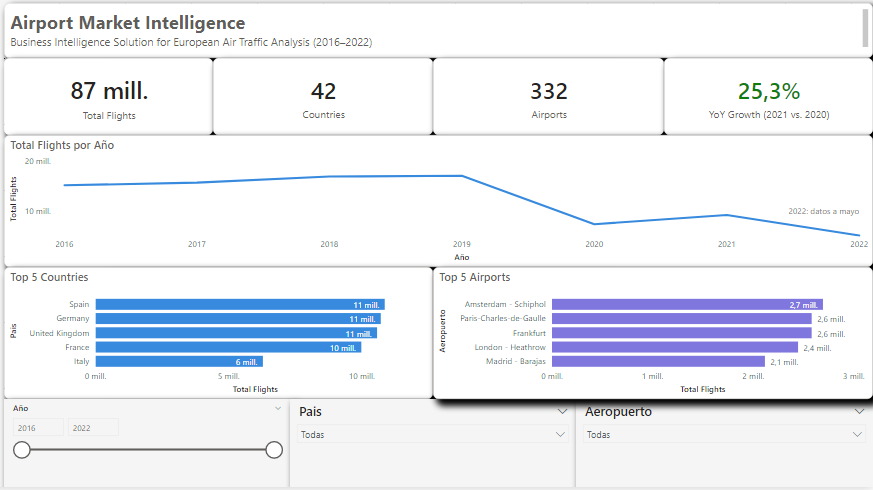

What the dashboard file says about the page in this screenshot:
{"tool":"powerbi","page":{"name":"Executive Overview","canvas":[1280,720],"ordinal":0},"visuals":[{"type":"textbox","box":[16,16,1264,80],"z":0},{"type":"card","fields":{"Values":["Medidas.Total Flights"]},"box":[16,96,304,112],"z":1000},{"type":"card","fields":{"Values":["Medidas.Total Countries"]},"box":[320,96,320,112],"z":2000},{"type":"card","fields":{"Values":["Medidas.Total Airports"]},"box":[640,96,336,112],"z":3000},{"type":"card","fields":{"Values":["Medidas.YoY Growth %"]},"box":[976,96,304,112],"z":4000},{"type":"lineChart","fields":{"Category":["Dim_Fecha.Año"],"Y":["Medidas.Total Flights"]},"box":[16,208,1264,192],"z":5000},{"type":"barChart","title":"Top 5 Countries","fields":{"Category":["Dim_Pais.Pais"],"Y":["Medidas.Total Flights"]},"box":[16,400,624,192],"z":6000},{"type":"slicer","fields":{"Values":["Dim_Fecha.Año"]},"box":[16,592,416,128],"z":7000},{"type":"slicer","fields":{"Values":["Dim_Pais.Pais"]},"box":[432,592,416,128],"z":8000},{"type":"slicer","fields":{"Values":["Dim_Aeropuerto.Aeropuerto"]},"box":[848,592,432,128],"z":9000},{"type":"barChart","title":"Top 5 Airports","fields":{"Y":["Medidas.Total Flights"],"Category":["Dim_Aeropuerto.Aeropuerto"]},"box":[640,400,640,192],"z":10000},{"type":"textbox","box":[1152,304,128,32],"z":11000}]}

Visuals, with their boxes in screenshot pixels (x1, y1, x2, y2), scaled from the page's 1280x720 canvas onto the 873x490 screenshot:
textbox: (left=11, top=11, right=872, bottom=65)
card - Medidas.Total Flights: (left=11, top=65, right=218, bottom=142)
card - Medidas.Total Countries: (left=218, top=65, right=436, bottom=142)
card - Medidas.Total Airports: (left=436, top=65, right=666, bottom=142)
card - Medidas.YoY Growth %: (left=666, top=65, right=872, bottom=142)
lineChart - Dim_Fecha.Año x Medidas.Total Flights: (left=11, top=142, right=872, bottom=272)
"Top 5 Countries" barChart: (left=11, top=272, right=436, bottom=403)
slicer - Dim_Fecha.Año: (left=11, top=403, right=295, bottom=489)
slicer - Dim_Pais.Pais: (left=295, top=403, right=578, bottom=489)
slicer - Dim_Aeropuerto.Aeropuerto: (left=578, top=403, right=872, bottom=489)
"Top 5 Airports" barChart: (left=436, top=272, right=872, bottom=403)
textbox: (left=786, top=207, right=872, bottom=229)
